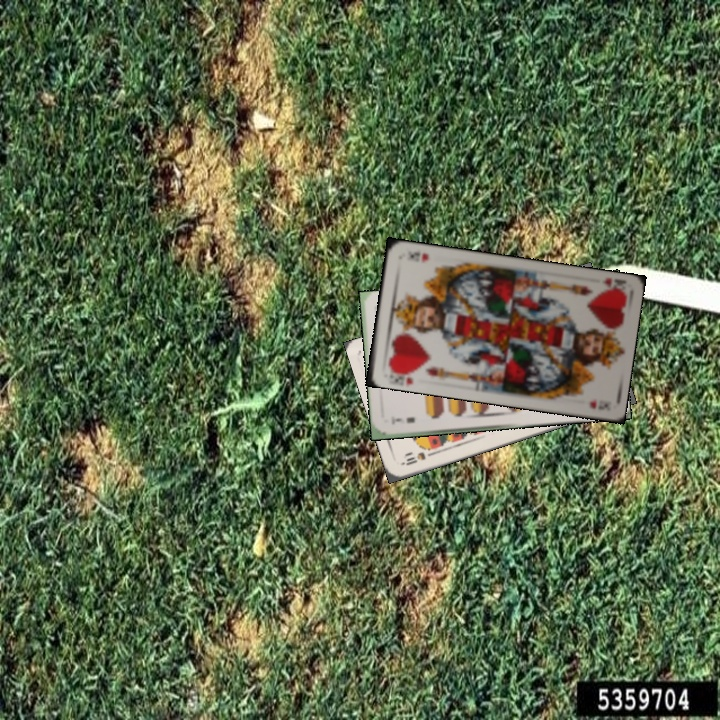E7: (387, 413, 418, 427)
HK: (386, 364, 416, 387), (598, 274, 628, 290)
S10: (398, 448, 438, 468)
